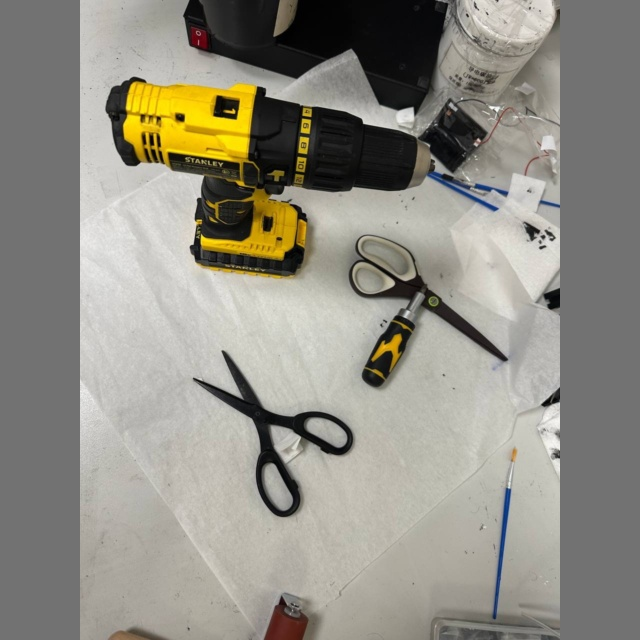drill: (106, 77, 431, 276)
scissor: (193, 351, 353, 517), (351, 234, 507, 365)
screwdriver: (362, 291, 424, 387)
